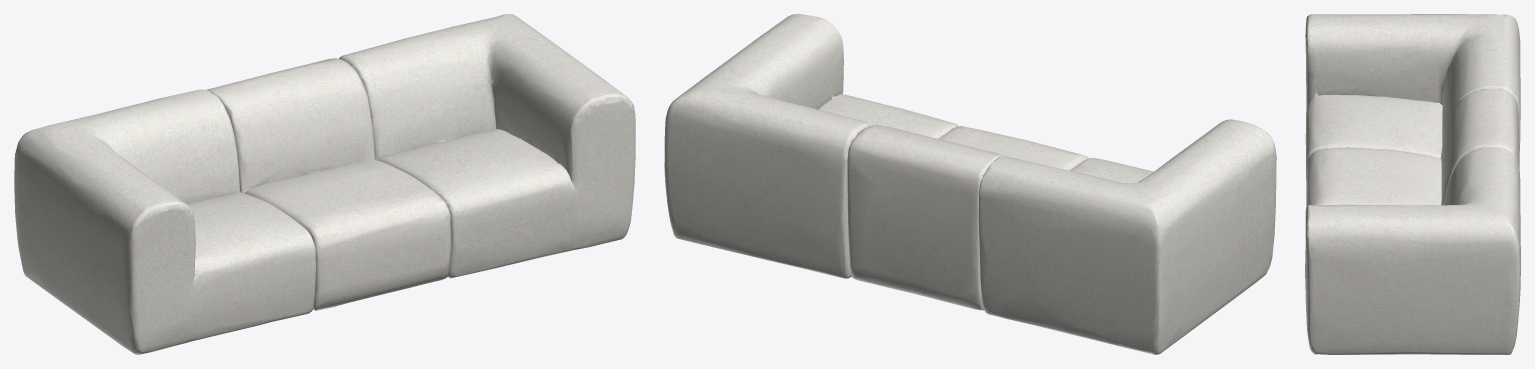
Rendered from 59 - STOCKHOLM 2025 - 三人座沙發，Djurmo 灰色白色 IKEA 線上購物.glb.
The picture shows the model from 3 angles, left to right: view 1: azimuth 30°, elevation 25°; view 2: azimuth 150°, elevation 25°; view 3: azimuth 270°, elevation 25°; orthographic projection. The views are drawn at different scales.
Parts seen in each view (by area): view 1: 59574303_3_seat_sofa:1; view 2: 59574303_3_seat_sofa:1; view 3: 59574303_3_seat_sofa:1.
Part boxes in pixels (bbox=[...]): 59574303_3_seat_sofa:1: bbox=[14, 14, 635, 354]; 59574303_3_seat_sofa:1: bbox=[664, 14, 1276, 354]; 59574303_3_seat_sofa:1: bbox=[1305, 14, 1520, 354].
Size of the model in its own units: 2.44 by 0.7106 by 1.01.
1 material, 1 textured.
